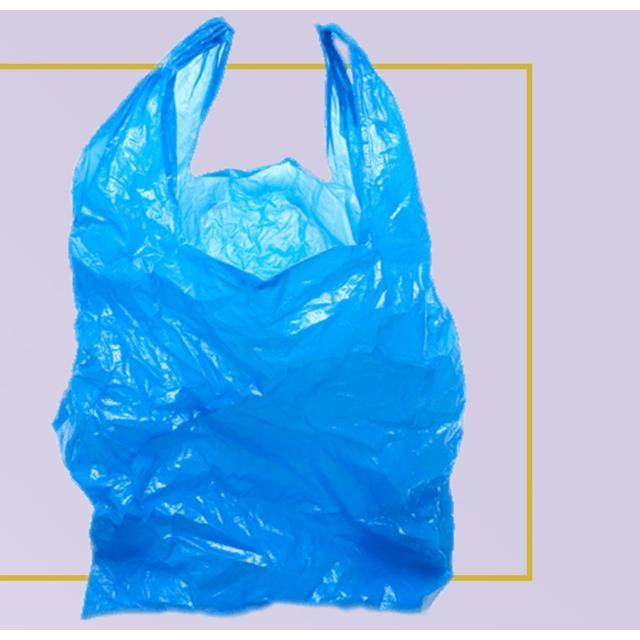plastic: (54, 18, 464, 617)
